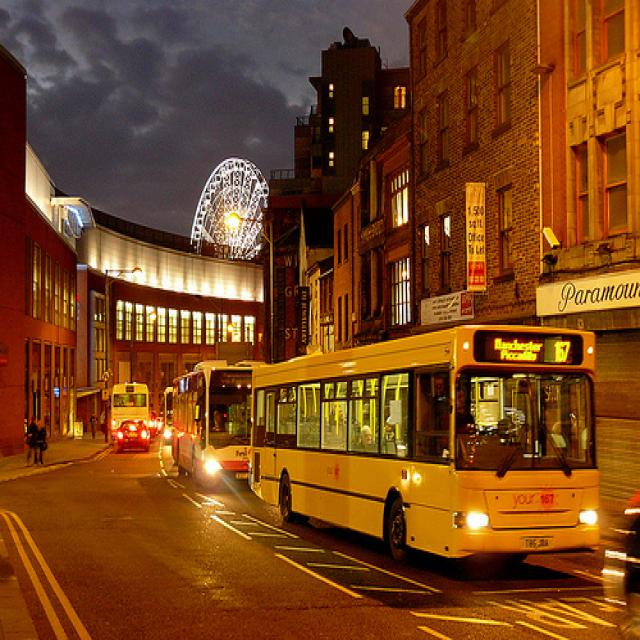Bus: (251, 316, 607, 583), (159, 312, 272, 503), (108, 353, 167, 442)
People: (31, 416, 63, 482)
car: (107, 419, 157, 468)
